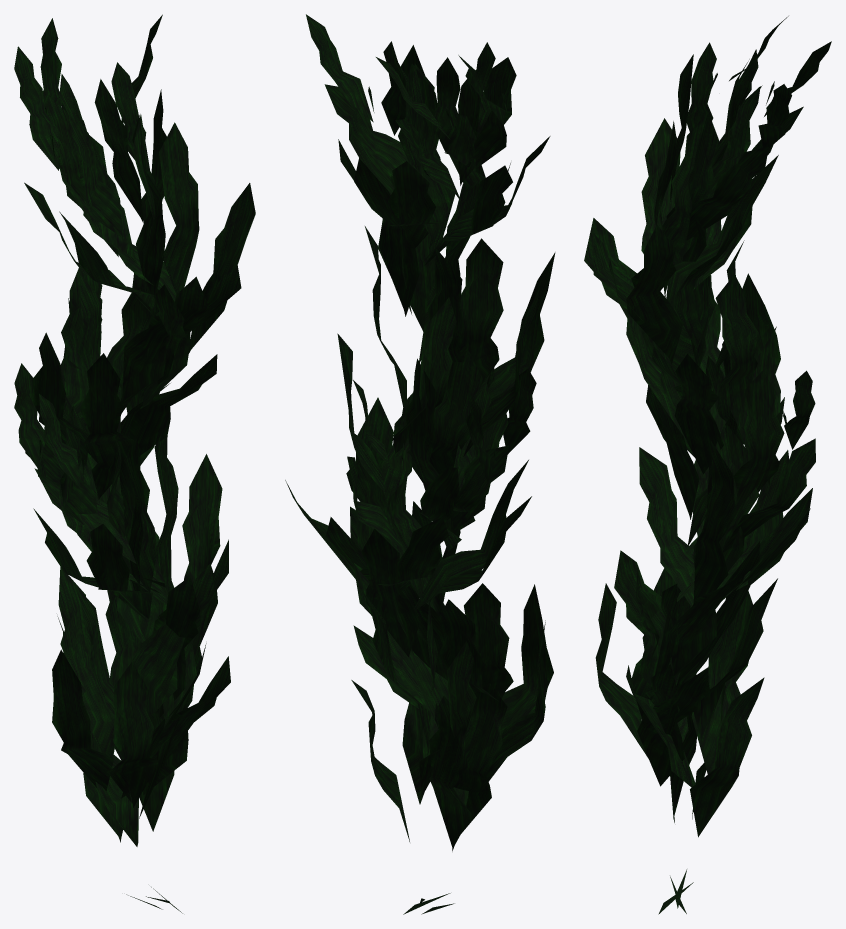
File: weed.obj
3 views of the same model, side by side, from view 1: azimuth 30°, elevation 25°; view 2: azimuth 150°, elevation 25°; view 3: azimuth 270°, elevation 25° (orthographic). The views are drawn at different scales.
Visible parts, largest first — view 1: TallSeaweed_meshId0_name.001; view 2: TallSeaweed_meshId0_name.001; view 3: TallSeaweed_meshId0_name.001.
Part boxes in pixels (left/top/right/bottom): TallSeaweed_meshId0_name.001: left=14, top=14, right=255, bottom=913; TallSeaweed_meshId0_name.001: left=285, top=14, right=555, bottom=914; TallSeaweed_meshId0_name.001: left=584, top=16, right=831, bottom=914.
Size of the model in its own units: 0.00495 by 0.0196 by 0.00518.
Materials: 1 (1 with a texture image).
